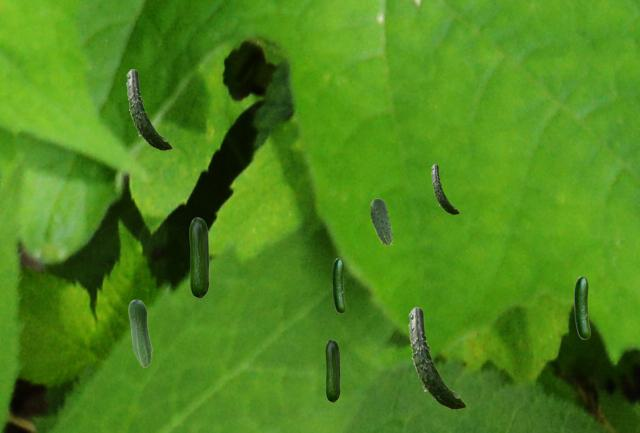cucumber: (408, 307, 465, 408), (126, 69, 171, 149), (128, 299, 151, 366), (189, 217, 208, 297), (431, 164, 458, 213), (370, 198, 391, 243), (574, 276, 589, 338), (325, 339, 339, 401), (332, 258, 344, 312)
